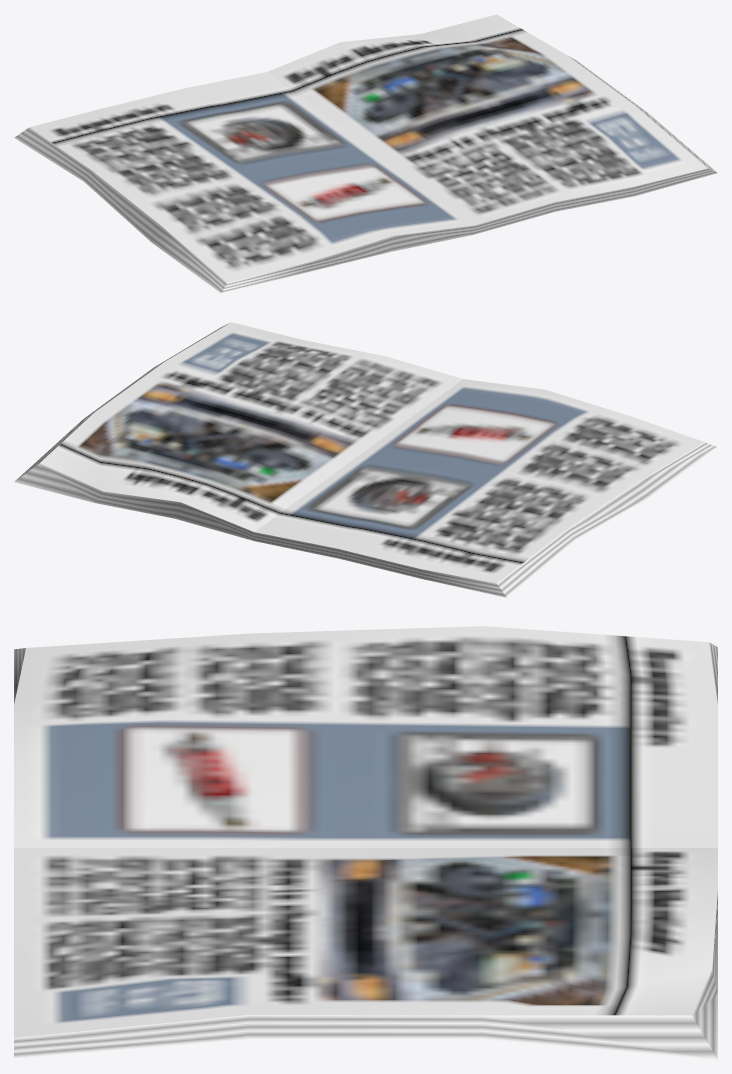
Rendered from model_MagazineOpen.fbx.
3 views of the same model, one above another, from view 1: azimuth 30°, elevation 25°; view 2: azimuth 150°, elevation 25°; view 3: azimuth 270°, elevation 25° (orthographic). The views are drawn at different scales.
Parts seen in each view (by area): view 1: MagazineOpen001; view 2: MagazineOpen001; view 3: MagazineOpen001.
Part boxes in pixels (box(x1,y1,x2,y2)): MagazineOpen001: box(14, 14, 717, 293); MagazineOpen001: box(14, 322, 717, 597); MagazineOpen001: box(14, 626, 717, 1059).
Size of the model in its own units: 0.7864 by 0.0339 by 0.5738.
